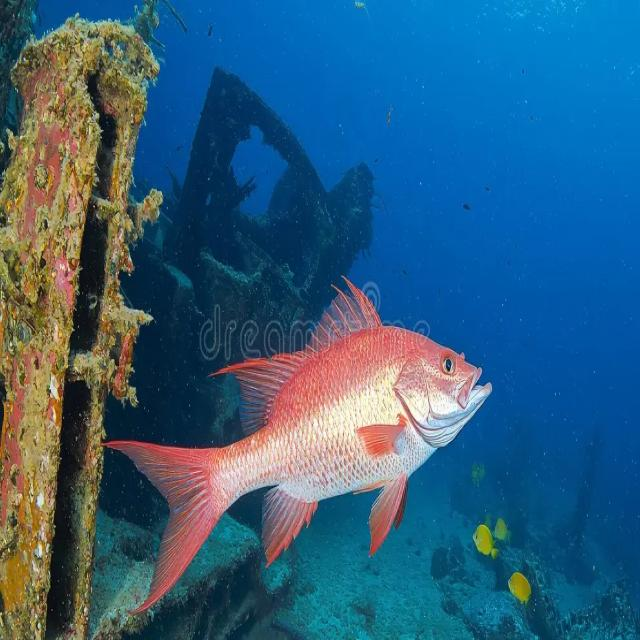Red Snapper: (102, 274, 491, 615)
